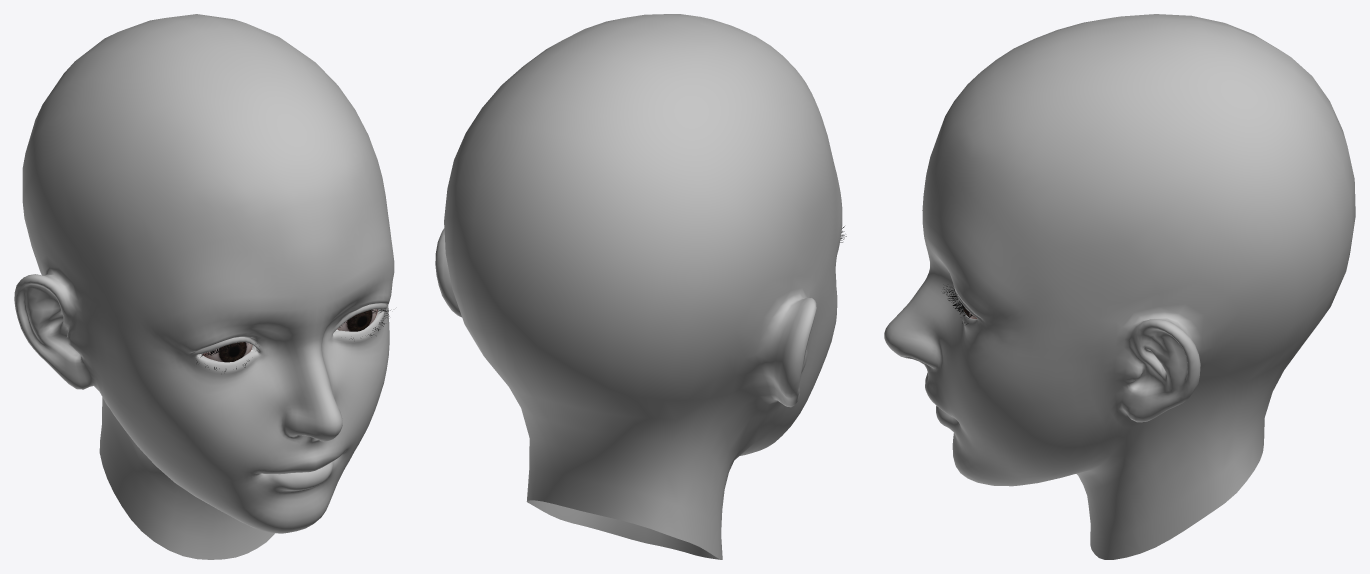
File: Character_Head.fbx
The picture shows the model from 3 angles, left to right: view 1: azimuth 30°, elevation 25°; view 2: azimuth 150°, elevation 25°; view 3: azimuth 270°, elevation 25°; orthographic projection. The views are drawn at different scales.
Parts seen in each view (by area): view 1: Head; view 2: Head; view 3: Head.
Part boxes in pixels (x1,y1,x2,y2): Head: (14,14,394,559); Head: (435,14,846,559); Head: (884,14,1355,559).
Bounding box in the file's own units: 18.26 × 25.11 × 20.86.
4 materials, 1 textured.
